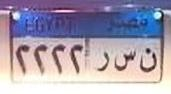2: (68, 44, 84, 74), (34, 43, 49, 75), (16, 42, 30, 74), (52, 44, 66, 75)
noon: (138, 46, 158, 73)
raa: (95, 46, 111, 73)
seen: (113, 46, 136, 73)
